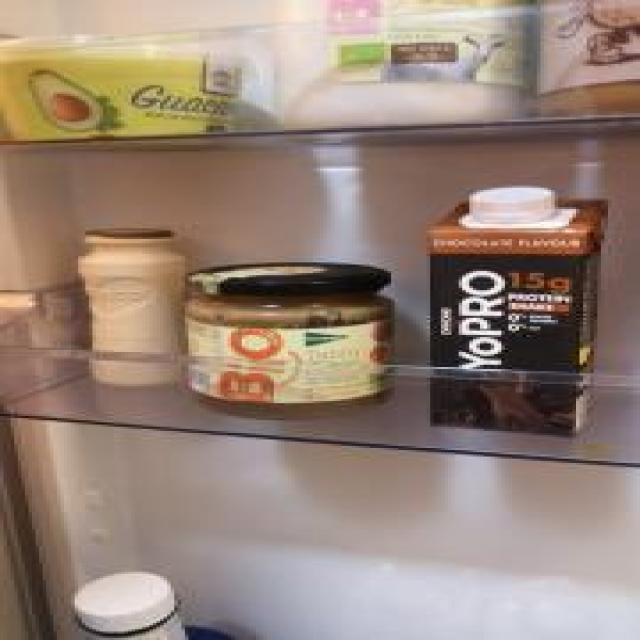guacamole: (0, 26, 252, 146)
yogurt: (414, 174, 624, 443), (68, 220, 192, 394)
